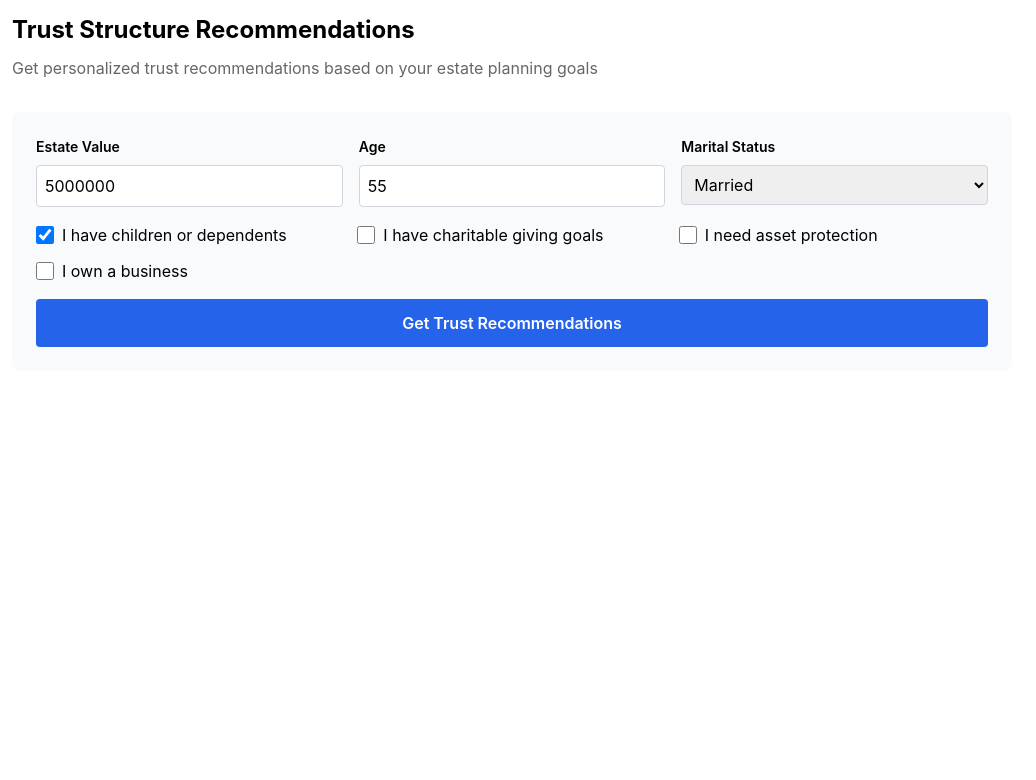
Test: Trust Structure Builder › expands trust details on click
Step 1. Click the button "Get Trust Recommendations" → (512, 323), box [36, 299, 988, 347]
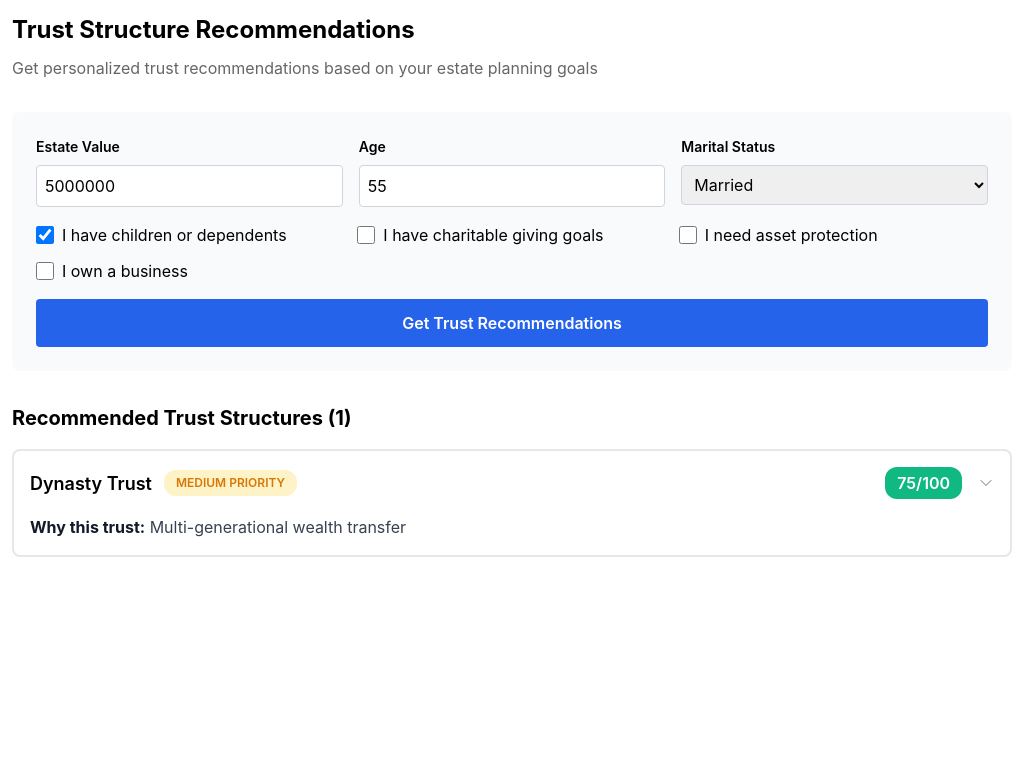
Step 2. Click the button "Dynasty Trust medium priority 75/100" → (91, 483), box [30, 467, 994, 499]
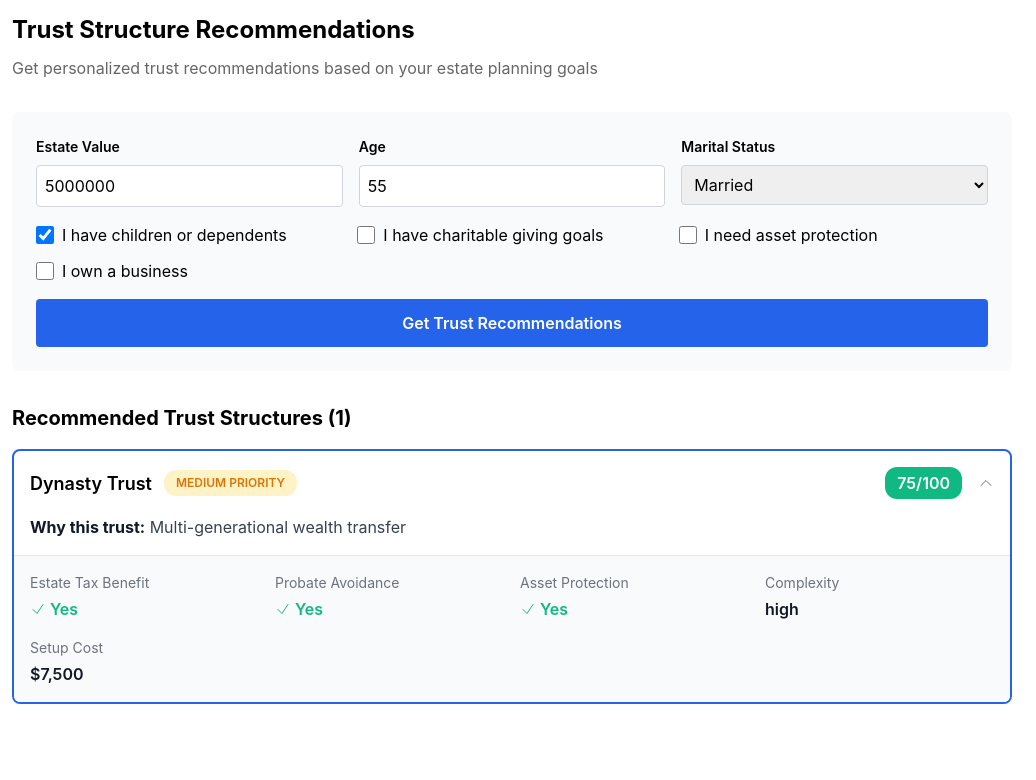
Expected: the text "Estate Tax Benefit" is shown, [30, 574, 149, 591]
Expected: the text "Probate Avoidance" is shown, [275, 574, 400, 591]
